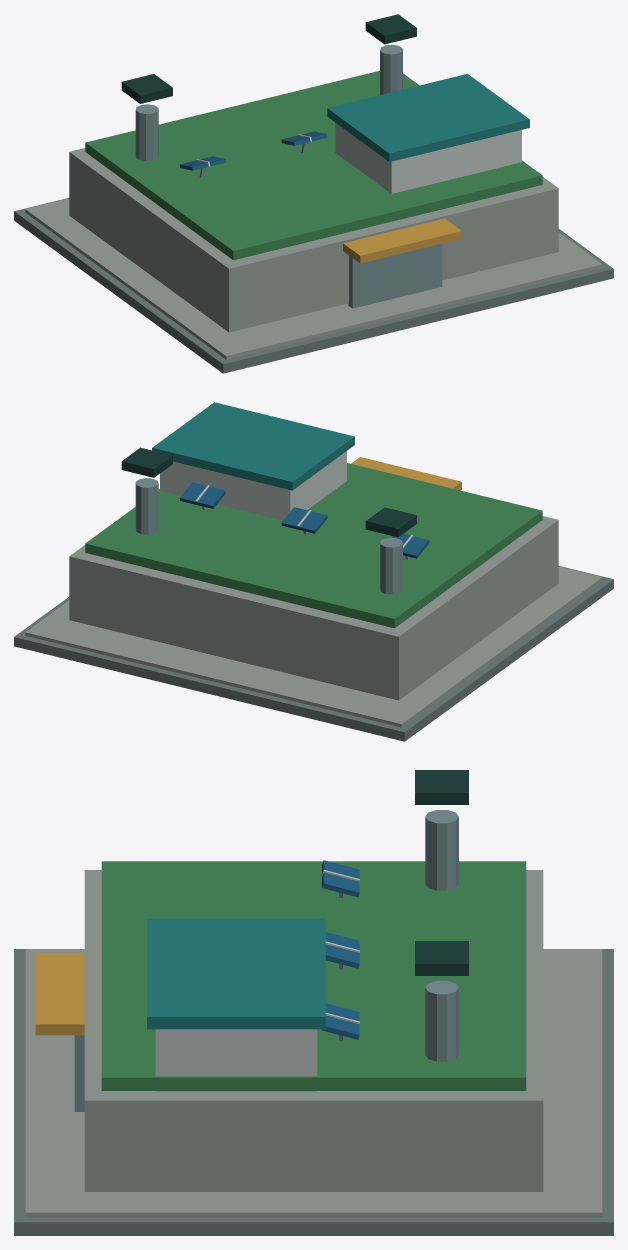
File: shelter_lv3.glb
The picture shows the model from 3 angles, top to bottom: view 1: azimuth 30°, elevation 25°; view 2: azimuth 150°, elevation 25°; view 3: azimuth 270°, elevation 25°; orthographic projection. The views are drawn at different scales.
Visible parts, largest first — view 1: rough, metallic; view 2: rough, metallic; view 3: rough, metallic.
Part boxes in pixels (x1,y1,x2,y2): rough: [14, 14, 613, 373]; metallic: [135, 44, 442, 308]; rough: [14, 402, 613, 741]; metallic: [135, 478, 429, 594]; rough: [14, 770, 613, 1235]; metallic: [74, 810, 458, 1111].
Bounding box in the file's own units: 9.6 × 3.8 × 8.9.
